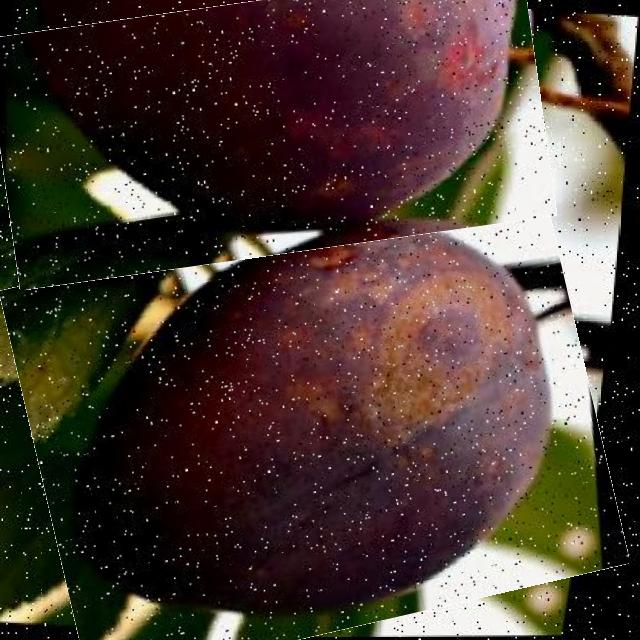plum: (17, 194, 610, 640), (0, 0, 549, 271)
